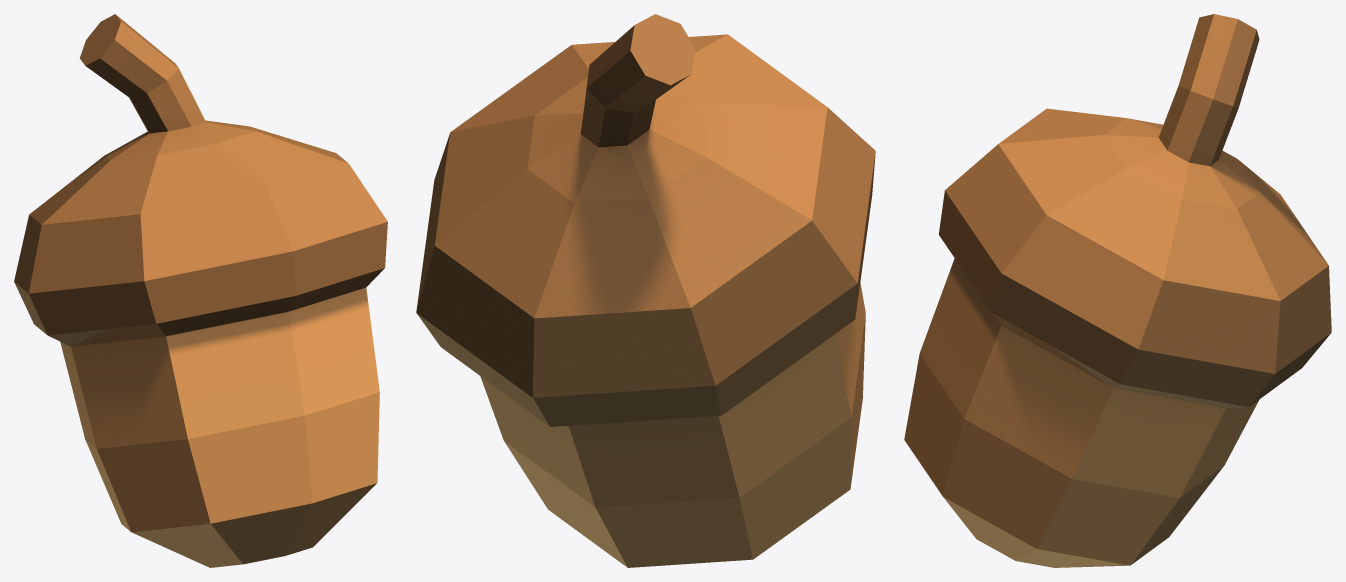
3 views of the same model, side by side, from view 1: azimuth 30°, elevation 25°; view 2: azimuth 150°, elevation 25°; view 3: azimuth 270°, elevation 25° (orthographic). The views are drawn at different scales.
Parts seen in each view (by area): view 1: acorn; view 2: acorn; view 3: acorn.
Boxes of the visible parts, box(x1,y1,x2,y2) form: acorn: box(14, 14, 387, 567); acorn: box(416, 14, 875, 567); acorn: box(904, 14, 1331, 567).
Size of the model in its own units: 1.21 by 1.66 by 1.24.
1 material, 1 textured.
